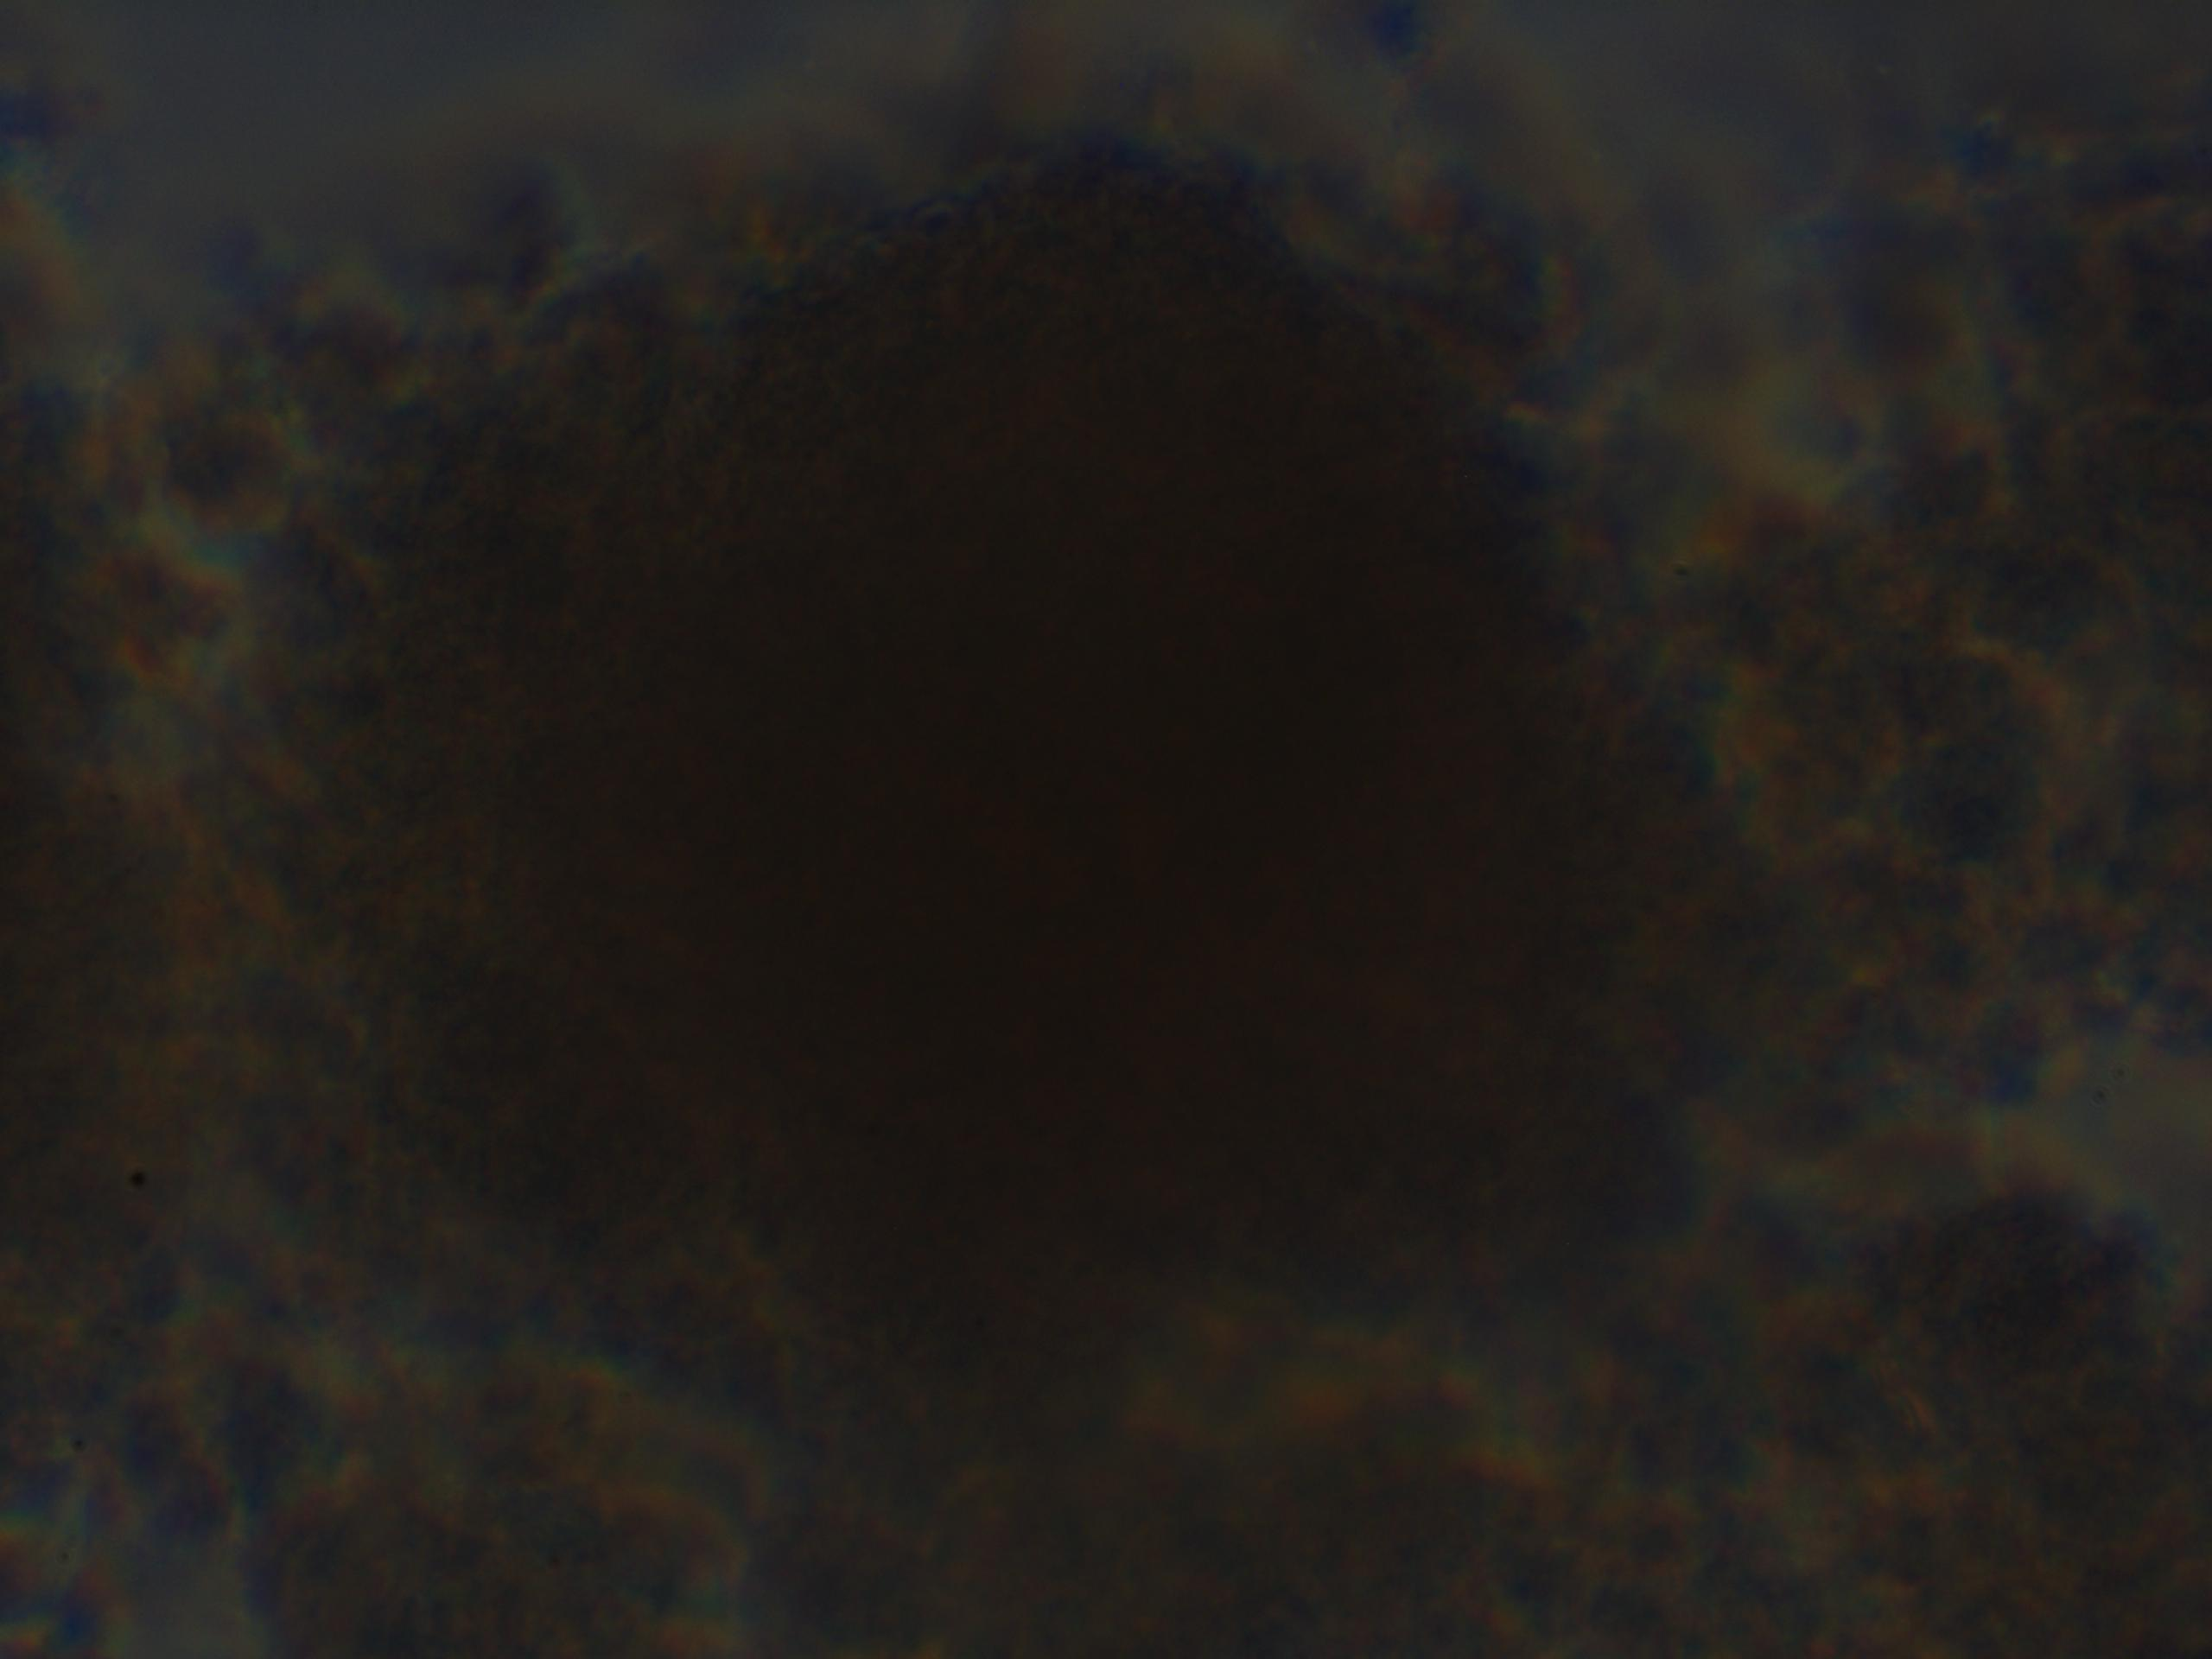spherical_floc: (233, 106, 1770, 1431)
